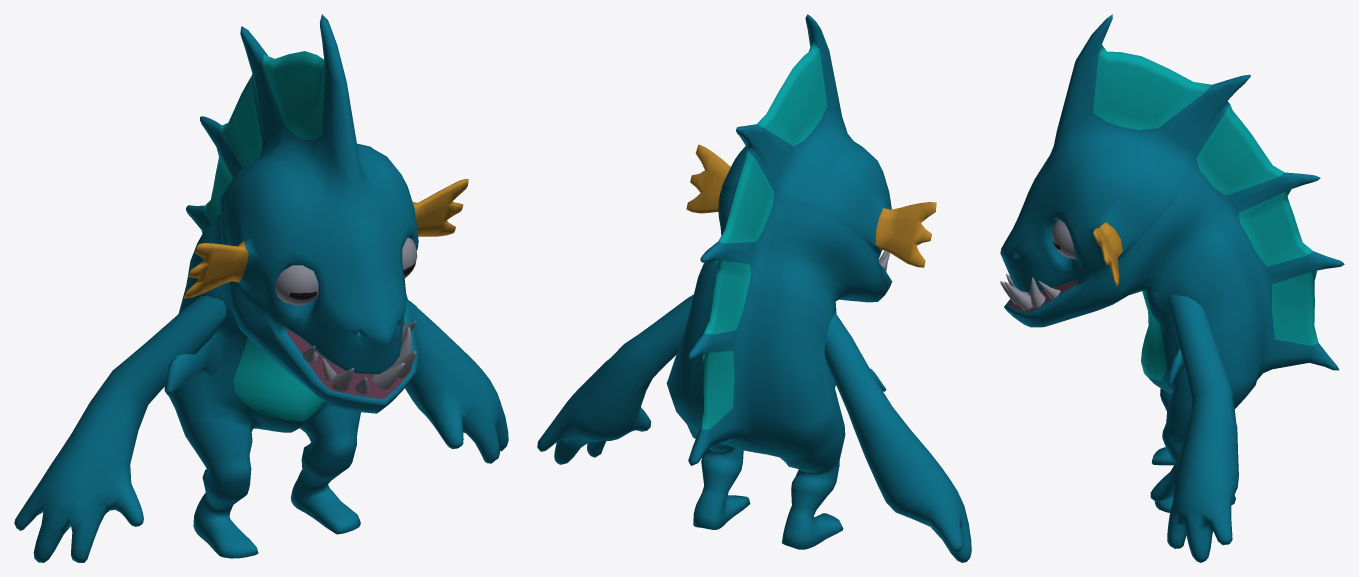
Rendered from q_fish_2.glb.
3 renders of one model, left to right at view 1: azimuth 30°, elevation 25°; view 2: azimuth 150°, elevation 25°; view 3: azimuth 270°, elevation 25°, orthographic. The views are drawn at different scales.
Parts seen in each view (by area): view 1: Fish_b; view 2: Fish_b; view 3: Fish_b.
Part boxes in pixels (x1,y1,x2,y2): Fish_b: (14, 14, 508, 562); Fish_b: (537, 14, 971, 562); Fish_b: (1000, 14, 1344, 562).
Size of the model in its own units: 0.9176 by 1 by 0.6649.
